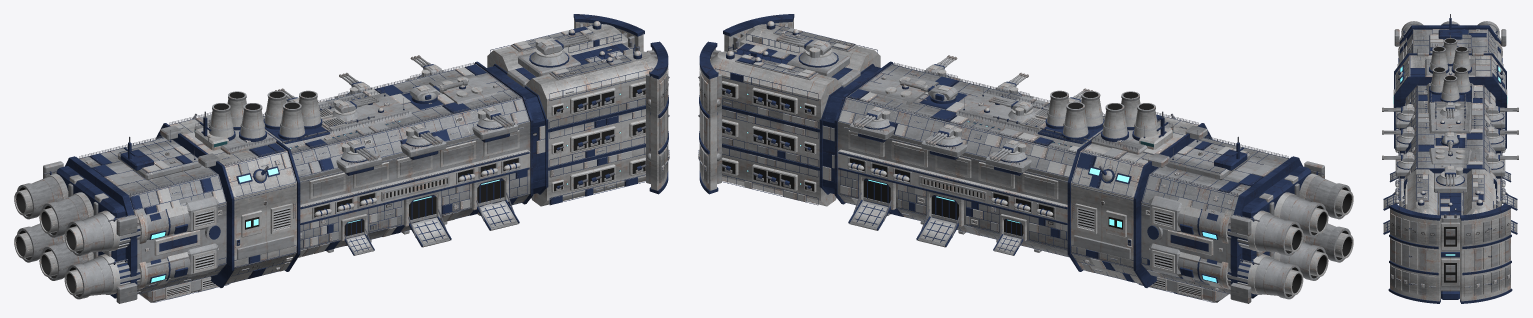
The model's file is 機戰風_聯盟.glb.
3 views of the same model, side by side, from view 1: azimuth 30°, elevation 25°; view 2: azimuth 150°, elevation 25°; view 3: azimuth 270°, elevation 25° (orthographic). The views are drawn at different scales.
Visible parts, largest first — view 1: hull_mid, hull_light, bow_light, hull_dark, superstructure_mid, engines.thruster.004, engines.thruster.005, engines_dark, hull.hangar_door.004, hull.hangar_door.003, shields_light, bow_mid (+29 smaller); view 2: hull_mid, hull_light, bow_light, hull_dark, superstructure_mid, engines.thruster.002, engines.thruster.003, engines_dark, hull.hangar_door.001, hull.hangar_door, shields_light, bow_mid (+29 smaller); view 3: shields_light, hull_mid, shields_mid, superstructure_mid, bow_light, hull_dark, shields_dark, bow_mid, hull_light, weapons_mid, bow_dark, superstructure_dark (+26 smaller).
Boxes of the visible parts, x1,y1,x2,y2 form: hull_mid: [79, 64, 530, 302]; hull_light: [154, 114, 530, 299]; bow_light: [487, 24, 657, 206]; hull_dark: [76, 61, 548, 287]; superstructure_mid: [118, 74, 497, 180]; engines.thruster.004: [64, 195, 218, 255]; engines.thruster.005: [64, 243, 218, 299]; engines_dark: [56, 156, 136, 298]; hull.hangar_door.004: [404, 191, 451, 247]; hull.hangar_door.003: [472, 174, 519, 230]; shields_light: [574, 18, 668, 190]; bow_mid: [507, 26, 634, 87]; hull_mid: [837, 64, 1288, 302]; hull_light: [837, 114, 1213, 299]; bow_light: [710, 24, 880, 206]; hull_dark: [819, 61, 1291, 287]; superstructure_mid: [870, 74, 1249, 180]; engines.thruster.002: [1149, 195, 1303, 255]; engines.thruster.003: [1149, 243, 1303, 299]; engines_dark: [1231, 156, 1311, 298]; hull.hangar_door.001: [916, 191, 963, 247]; hull.hangar_door: [848, 174, 895, 230]; shields_light: [699, 19, 793, 190]; bow_mid: [733, 26, 860, 87]; shields_light: [1390, 209, 1510, 301]; hull_mid: [1399, 29, 1501, 205]; shields_mid: [1390, 216, 1510, 295]; superstructure_mid: [1417, 35, 1483, 164]; bow_light: [1407, 169, 1493, 286]; hull_dark: [1394, 27, 1506, 200]; shields_dark: [1388, 204, 1512, 303]; bow_mid: [1416, 173, 1484, 291]; hull_light: [1393, 55, 1507, 206]; weapons_mid: [1395, 112, 1505, 176]; bow_dark: [1439, 193, 1461, 299]; superstructure_dark: [1429, 18, 1471, 102].
Size of the model in its own units: 321 by 84.02 by 86.52.
Materials: 7 (4 with a texture image).
